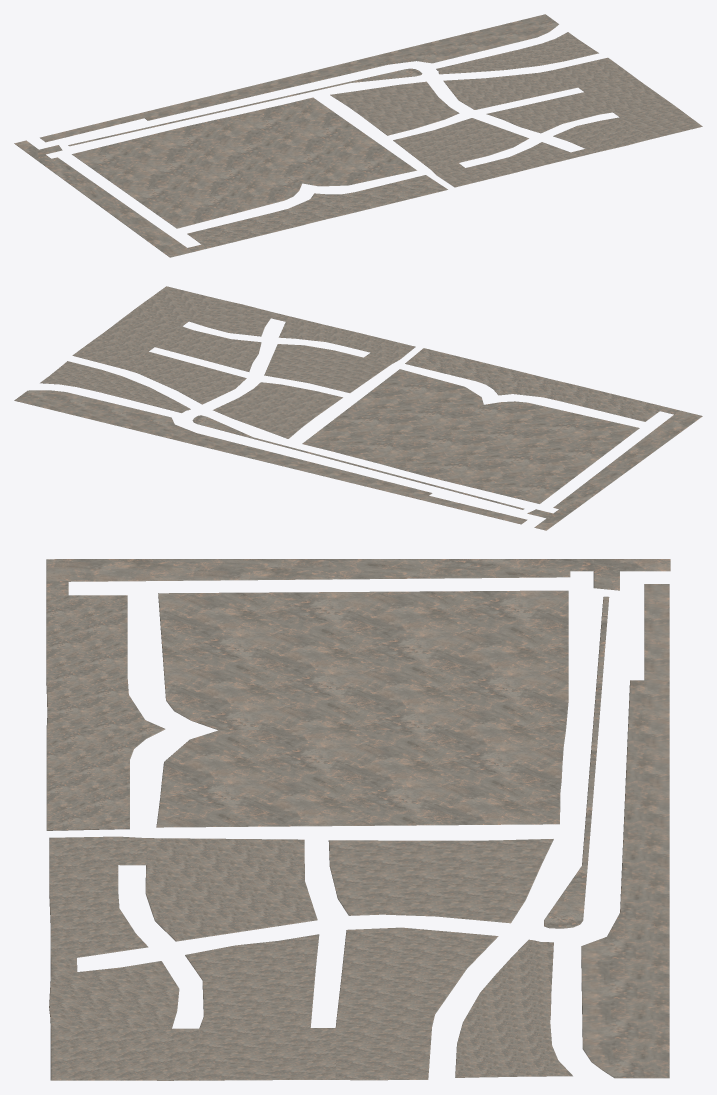
Rendered from Curb.fbx.
3 views of the same model, one above another, from view 1: azimuth 30°, elevation 25°; view 2: azimuth 150°, elevation 25°; view 3: azimuth 270°, elevation 25° (orthographic). The views are drawn at different scales.
Parts seen in each view (by area): view 1: curb_4, curb_6, curb_3, curb_5, curb_1, curb_2, pCube7; view 2: curb_4, curb_6, curb_3, curb_5, curb_1, curb_2, pCube7; view 3: curb_4, curb_6, curb_3, curb_5, curb_1, curb_2, pCube7.
Part boxes in pixels (x1,y1,x2,y2): curb_4: [72, 97, 416, 228]; curb_6: [393, 57, 702, 187]; curb_3: [14, 140, 447, 257]; curb_5: [40, 14, 558, 142]; curb_1: [330, 81, 459, 135]; curb_2: [436, 32, 598, 74]; pCube7: [68, 68, 422, 146]; curb_4: [302, 369, 639, 503]; curb_6: [72, 286, 415, 404]; curb_3: [405, 348, 702, 530]; curb_5: [14, 390, 527, 524]; curb_1: [213, 382, 342, 438]; curb_2: [40, 361, 190, 412]; pCube7: [192, 415, 524, 509]; curb_4: [156, 590, 568, 827]; curb_6: [49, 836, 498, 1080]; curb_3: [46, 559, 670, 830]; curb_5: [581, 584, 669, 1078]; curb_1: [328, 839, 553, 923]; curb_2: [455, 939, 572, 1077]; pCube7: [544, 596, 609, 928].
Bounding box in the file's own units: 790 × 0.669 × 400.
